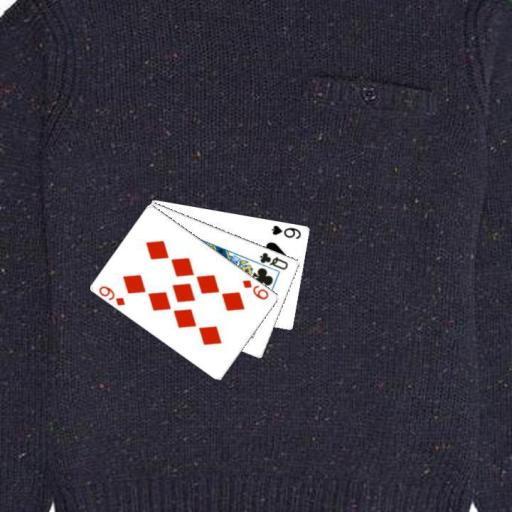6S: (268, 222, 302, 240)
9D: (96, 283, 127, 308), (240, 277, 270, 302)
QC: (257, 249, 289, 271)
